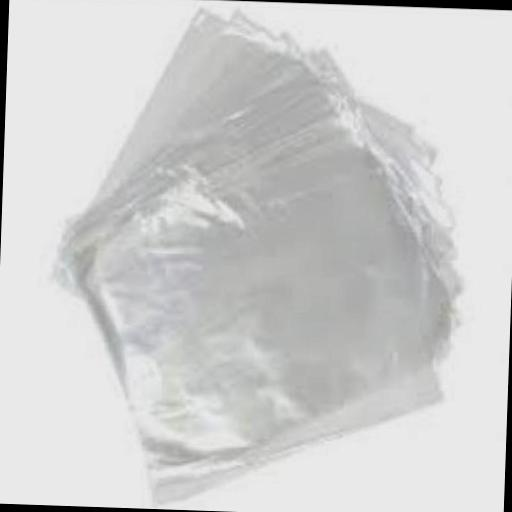plastic: (55, 0, 448, 507), (78, 128, 464, 510), (60, 50, 474, 362), (56, 0, 446, 306)
